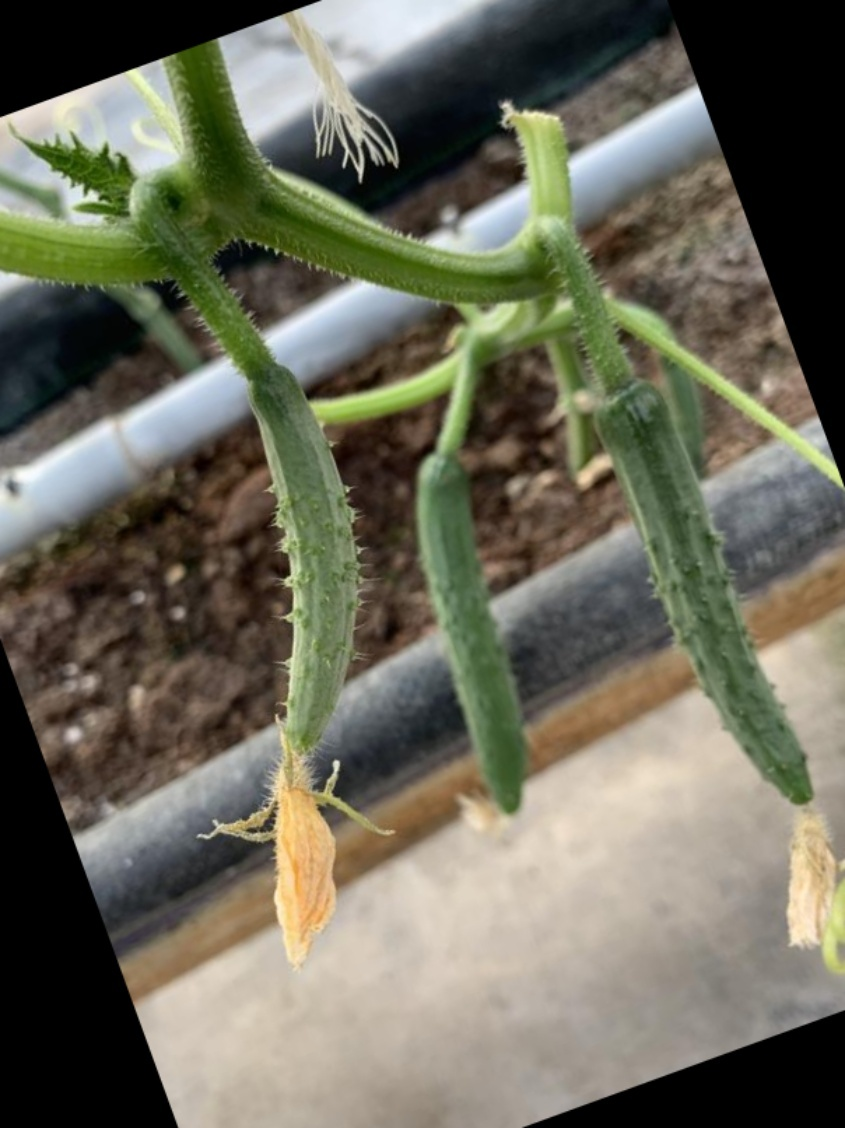growth: (408, 458, 536, 832)
mature: (407, 455, 539, 829)
